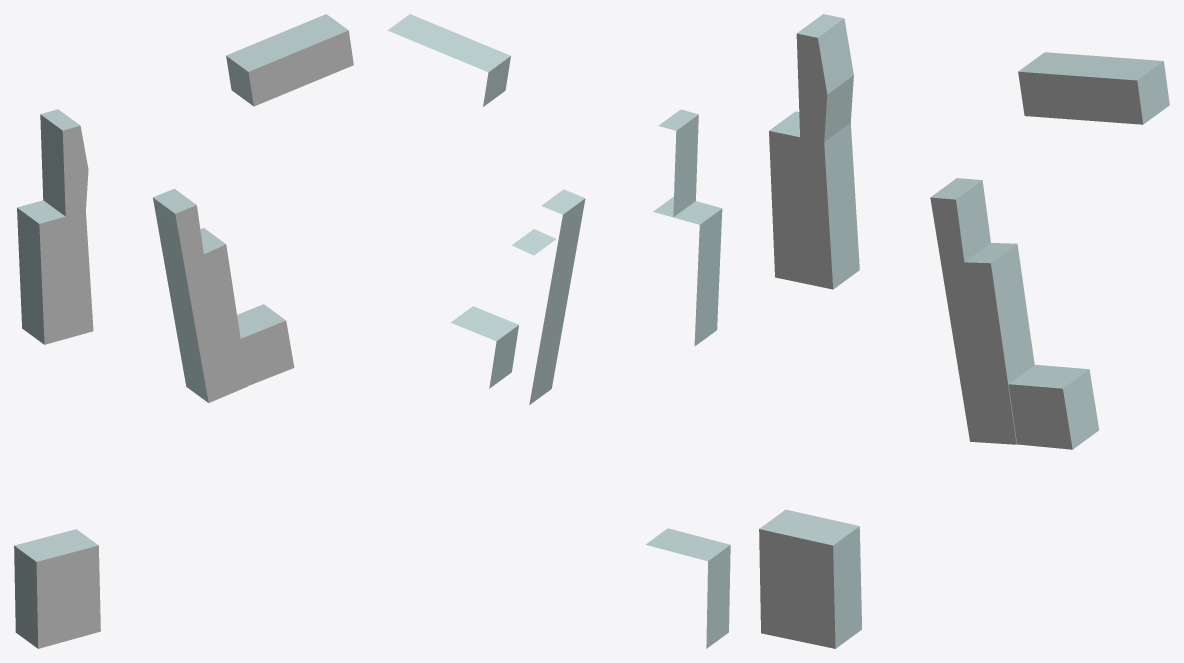
The picture shows the model from 3 angles, left to right: view 1: azimuth 30°, elevation 25°; view 2: azimuth 150°, elevation 25°; view 3: azimuth 330°, elevation 25°; orthographic projection. The views are drawn at different scales.
Visible parts, largest first — view 1: 0_1_2_1_3_2_1_0_0; view 2: 0_1_2_1_3_2_1_0_0; view 3: 0_1_2_1_3_2_1_0_0.
Part boxes in pixels (bbox=[...]): 0_1_2_1_3_2_1_0_0: bbox=[14, 14, 353, 648]; 0_1_2_1_3_2_1_0_0: bbox=[387, 14, 730, 648]; 0_1_2_1_3_2_1_0_0: bbox=[759, 14, 1169, 648].
Size of the model in its own units: 24.75 by 39.84 by 3.41.
